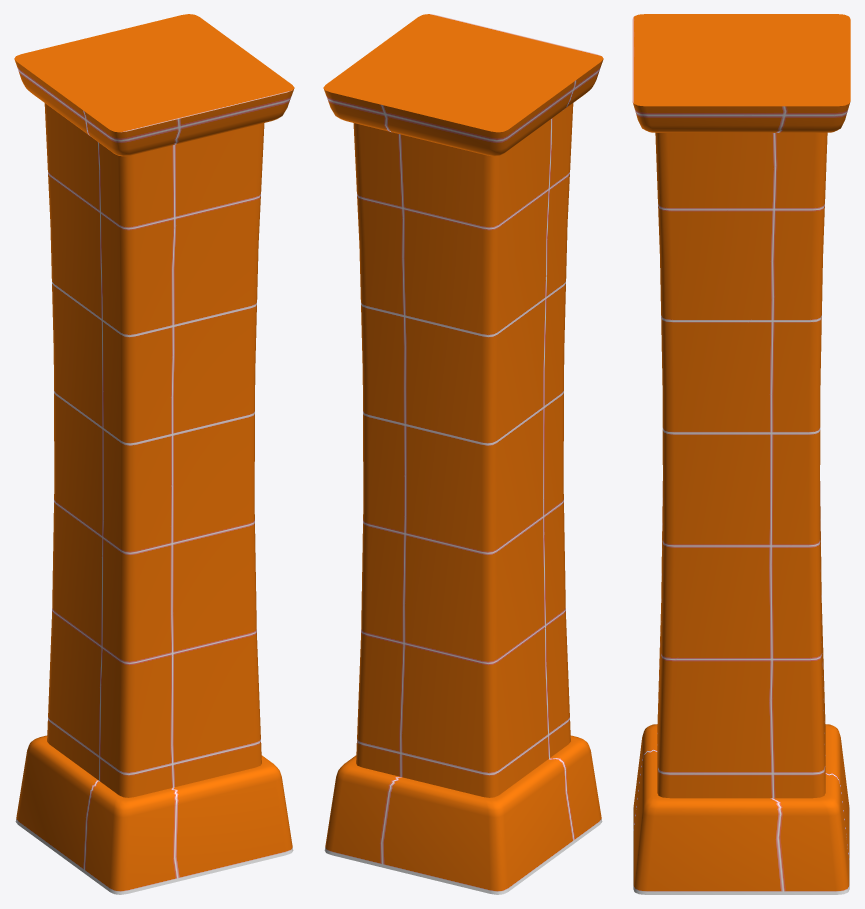
File: M01Column01_1.FBX
3 views of the same model, side by side, from view 1: azimuth 30°, elevation 25°; view 2: azimuth 150°, elevation 25°; view 3: azimuth 270°, elevation 25° (orthographic). The views are drawn at different scales.
Parts seen in each view (by area): view 1: M01Column01_1; view 2: M01Column01_1; view 3: M01Column01_1.
Boxes of the visible parts, x1,y1,x2,y2 form: M01Column01_1: (14,14,294,894); M01Column01_1: (323,14,603,894); M01Column01_1: (632,14,850,894).
Size of what is drawn, in the model's own units: 0.8535 by 3.4 by 0.8535.
